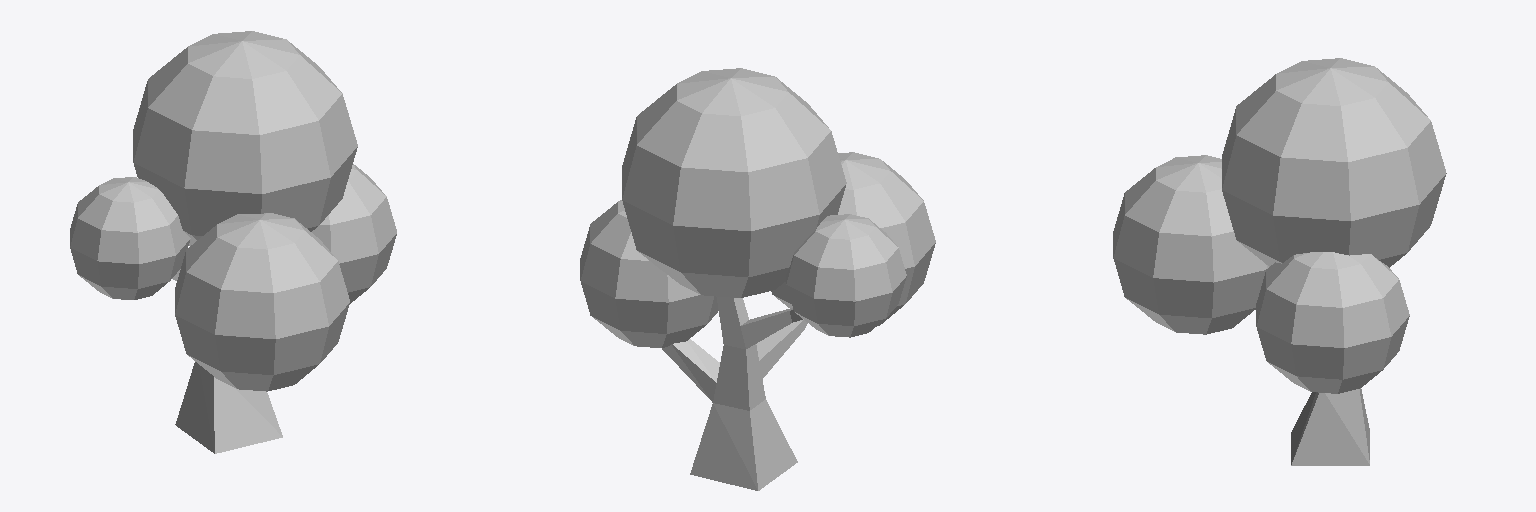
File: Tree1.obj
3 renders of one model, left to right at view 1: azimuth 30°, elevation 25°; view 2: azimuth 150°, elevation 25°; view 3: azimuth 270°, elevation 25°, orthographic.
Parts seen in each view (by area): view 1: Sphere.002, Sphere.003_Sphere.004, Sphere.001, Sphere, Cube; view 2: Sphere.002, Cube, Sphere.001, Sphere, Sphere.003_Sphere.004; view 3: Sphere.002, Sphere.003_Sphere.004, Sphere, Cube.
Boxes of the visible parts, box(x1,y1,x2,y2) form: Sphere.002: box(133, 31, 357, 245); Sphere.003_Sphere.004: box(175, 213, 349, 391); Sphere.001: box(70, 177, 190, 299); Sphere: box(312, 164, 396, 303); Cube: box(172, 269, 282, 453); Sphere.002: box(622, 68, 846, 297); Cube: box(662, 296, 807, 490); Sphere.001: box(786, 214, 906, 337); Sphere: box(580, 200, 718, 347); Sphere.003_Sphere.004: box(771, 152, 935, 325); Sphere.002: box(1222, 58, 1446, 267); Sphere.003_Sphere.004: box(1113, 155, 1268, 334); Sphere: box(1256, 252, 1409, 393); Cube: box(1291, 388, 1369, 465).
Size of the model in its own units: 9.06 by 10.8 by 8.42.